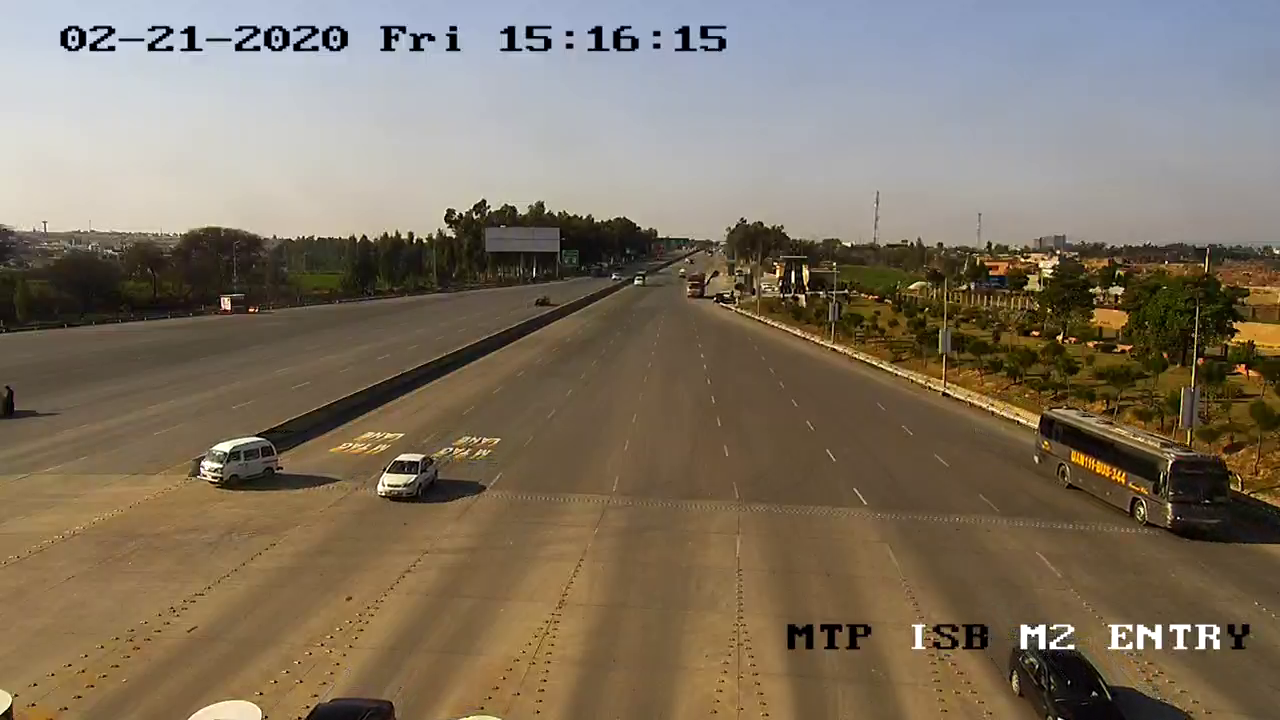f1: (198, 436, 287, 498), (368, 446, 450, 509)
f4: (1031, 399, 1240, 543)
